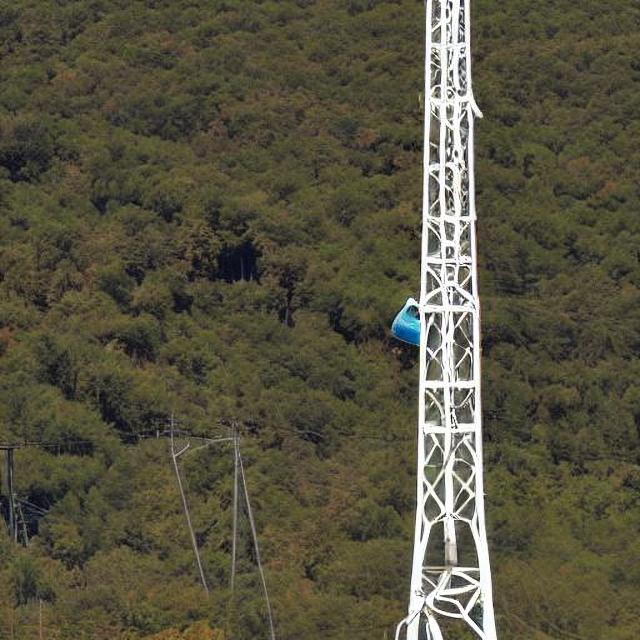floating object: (390, 296, 420, 344)
